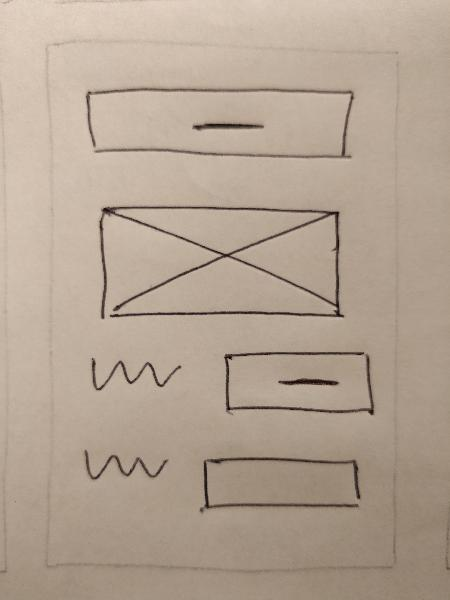button: (81, 78, 357, 168), (215, 345, 378, 418)
image: (91, 199, 349, 324)
text: (82, 348, 188, 398), (77, 445, 171, 485)
text_input: (199, 450, 365, 517)
